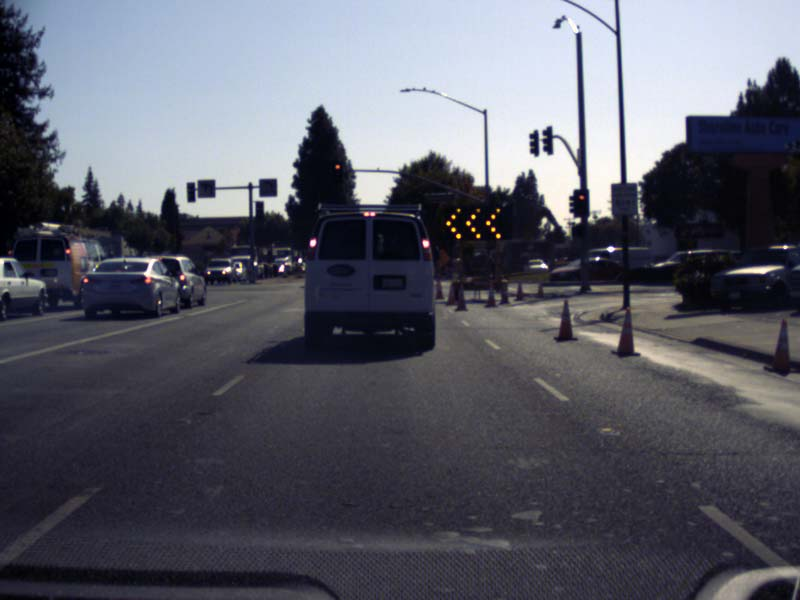Red: (572, 189, 589, 218), (332, 161, 341, 183)
